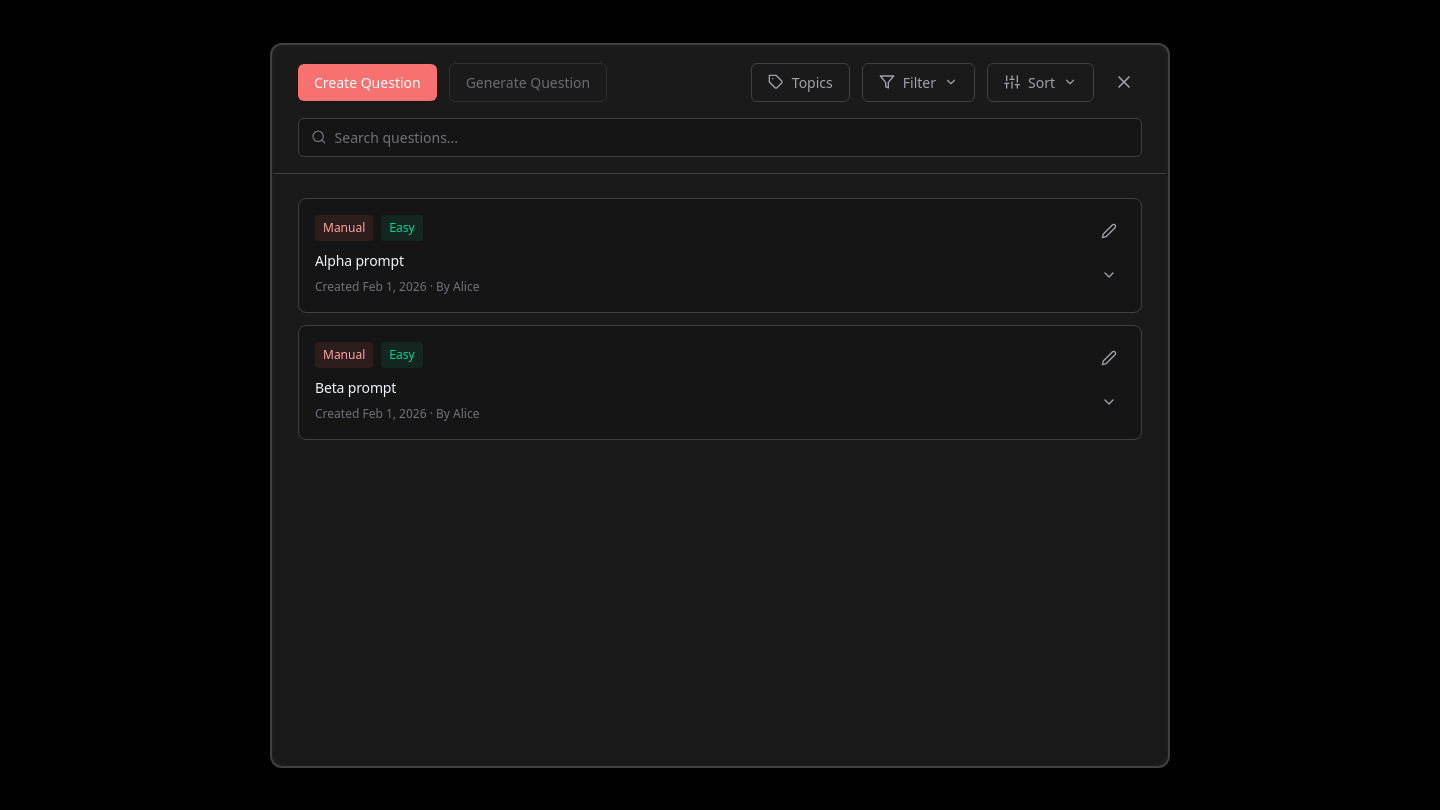
Test: ManageQuestionsModal › search filters questions and Clear search button resets query
Expected: the text "Alpha prompt" is shown, [315,250,404,270]
Expected: the text "Beta prompt" is shown, [315,378,396,396]
Type "beta" into the field with placeholder "Search questions..." at [732, 137], box [334,126,1129,148]
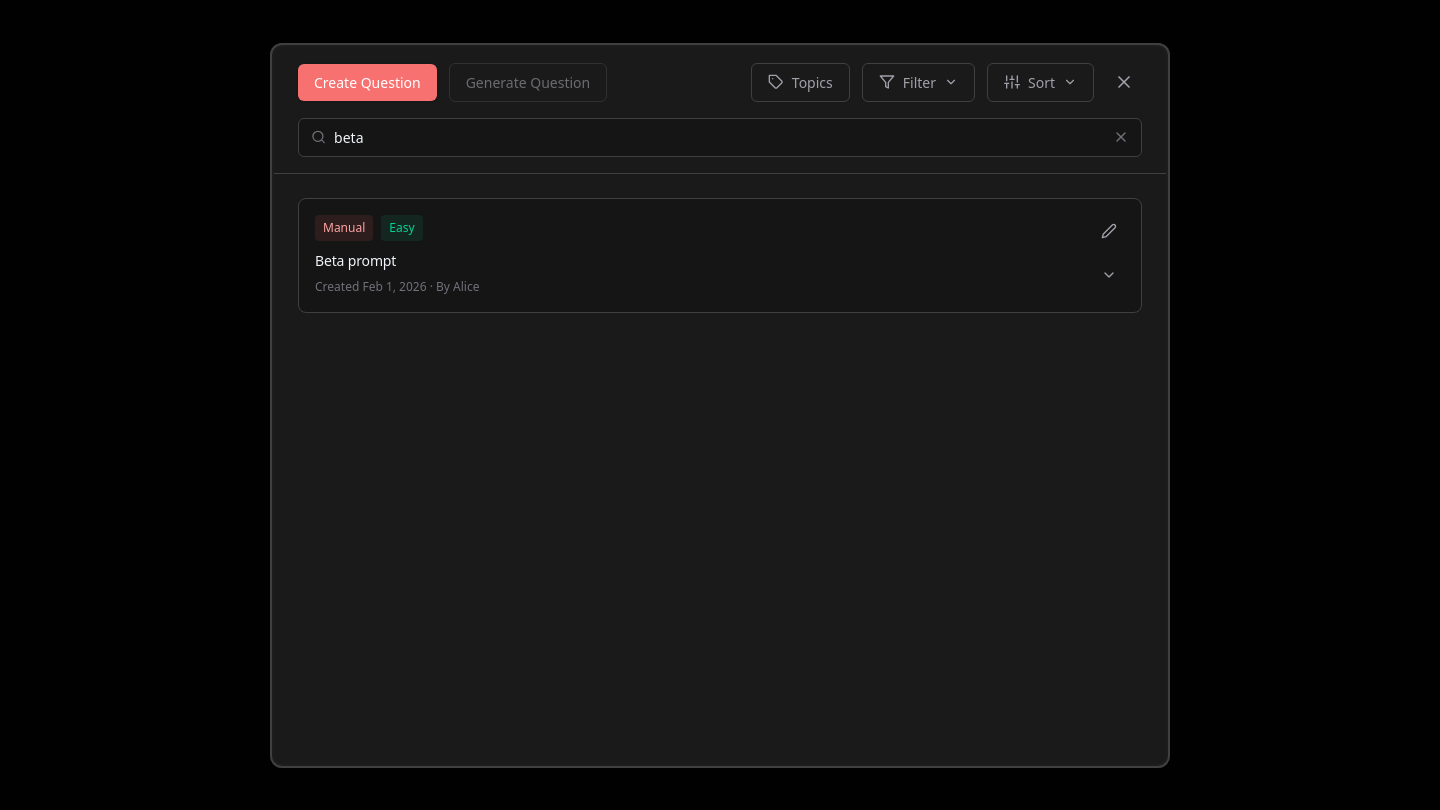
Expected: the text "Beta prompt" is shown, [315,250,396,270]
Expected: the text "Alpha prompt" is gone
Click the button named "Clear search" at [1121, 137], box [1113,129,1129,145]
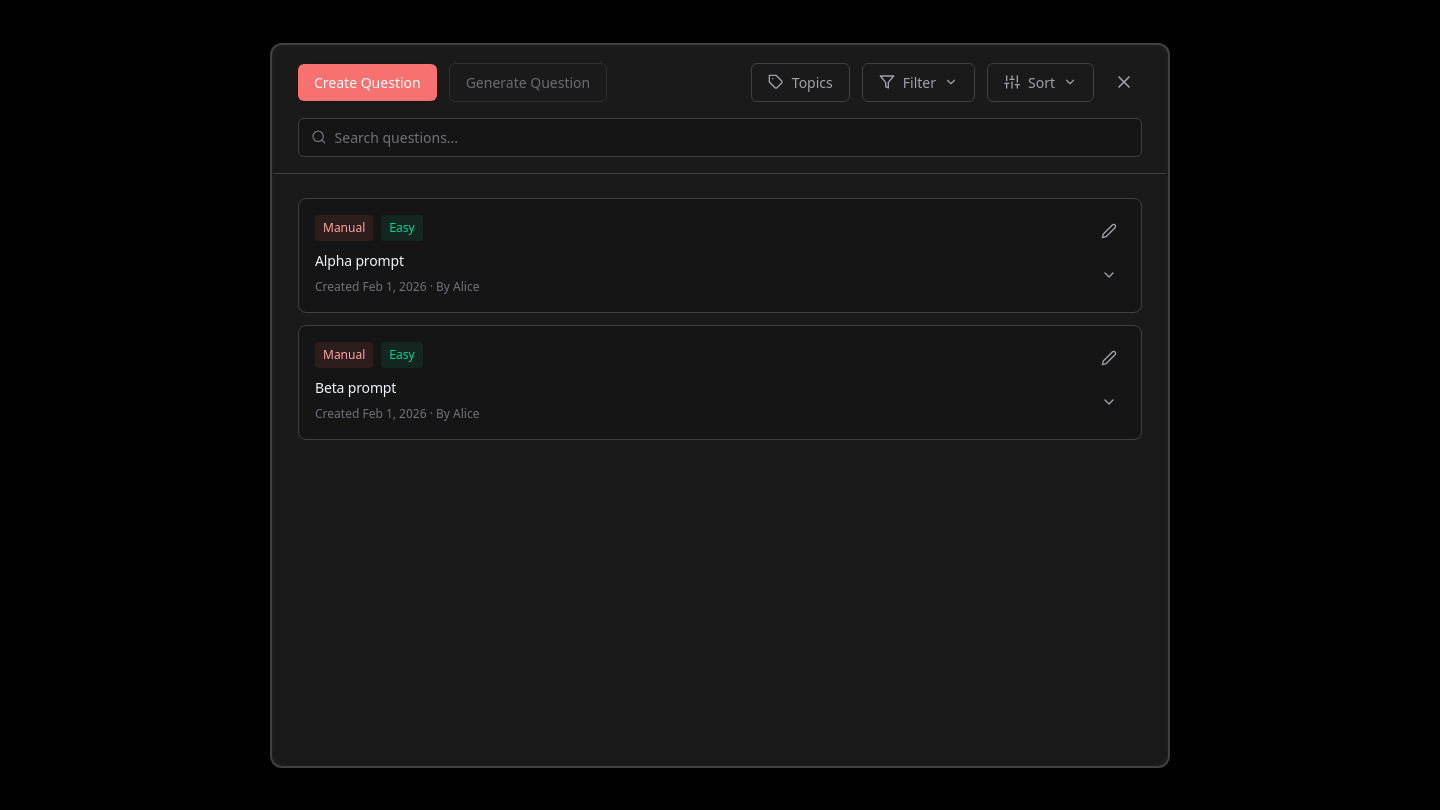
Expected: the text "Beta prompt" is shown, [315,378,396,396]
Expected: the text "Alpha prompt" is shown, [315,250,404,270]
